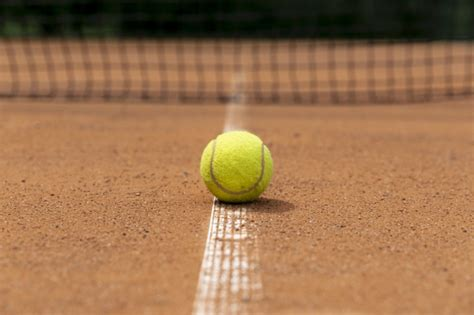tennis_ball: (200, 130, 273, 202)
